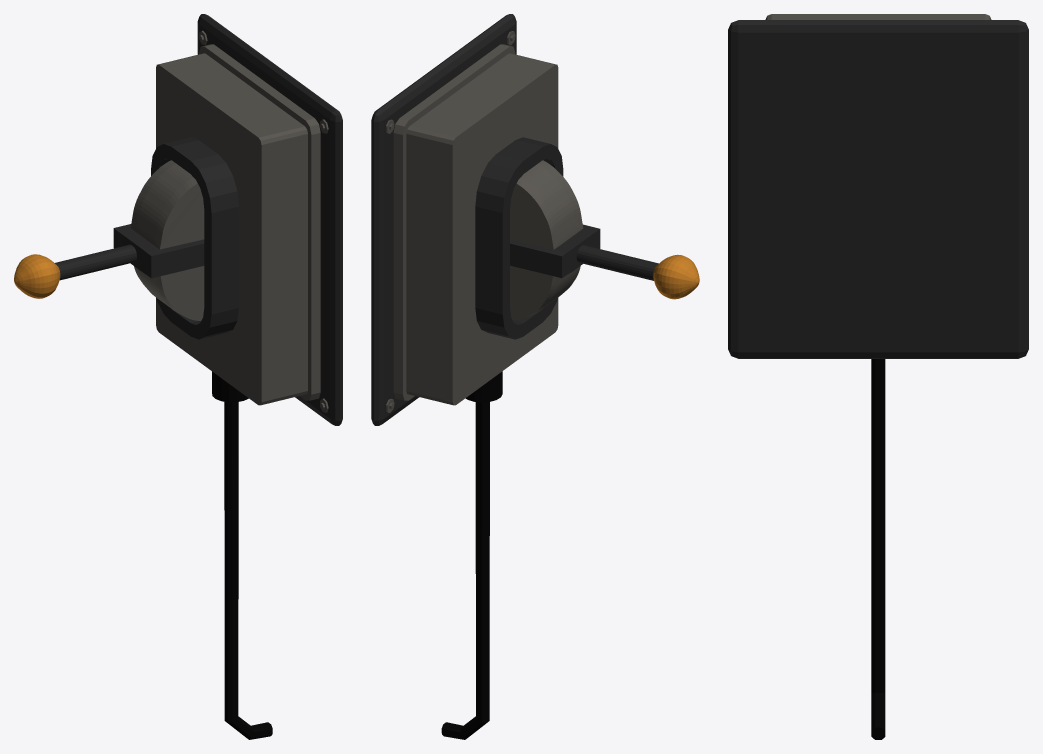
The model's file is terminal4.fbx.
3 views of the same model, side by side, from view 1: azimuth 30°, elevation 25°; view 2: azimuth 150°, elevation 25°; view 3: azimuth 270°, elevation 25° (orthographic). The views are drawn at different scales.
Visible parts, largest first — view 1: terminal4; view 2: terminal4; view 3: terminal4.
Part boxes in pixels (box(x1,y1,x2,y2)): terminal4: box(14, 14, 342, 739); terminal4: box(371, 14, 699, 739); terminal4: box(728, 14, 1028, 739).
Bounding box in the file's own units: 1.24 × 1.16 × 3.05.
